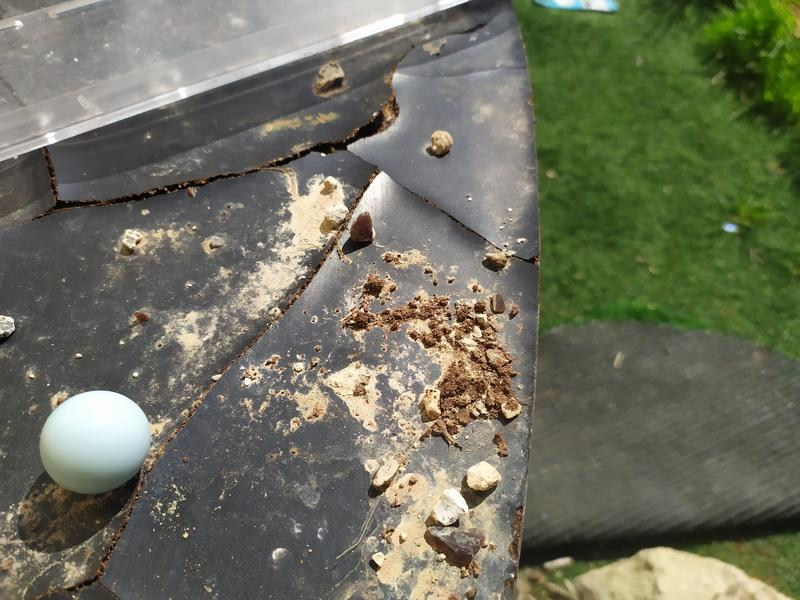Warning: (37, 388, 153, 497)
